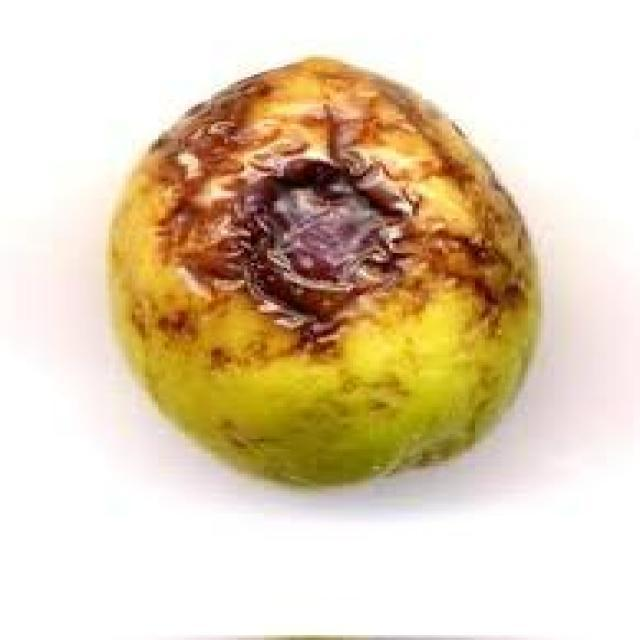Anthracnose: (109, 57, 531, 484)
